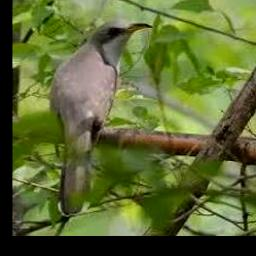Cuckoo: (50, 20, 152, 214)
